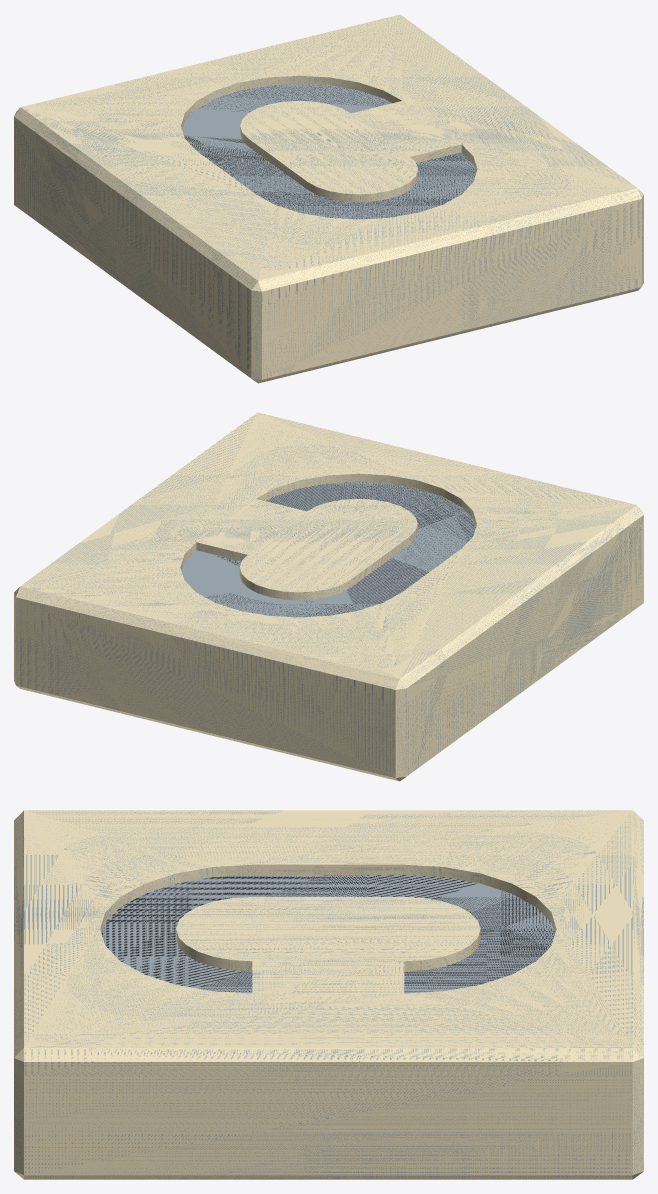
File: Boardgame_Anagram_Tile_C.fbx
3 renders of one model, top to bottom at view 1: azimuth 30°, elevation 25°; view 2: azimuth 150°, elevation 25°; view 3: azimuth 270°, elevation 25°, orthographic. The views are drawn at different scales.
Parts seen in each view (by area): view 1: Model; view 2: Model; view 3: Model.
Boxes of the visible parts, x1=… form: Model: x1=14, y1=14, x2=643, y2=383; Model: x1=14, y1=412, x2=643, y2=781; Model: x1=14, y1=810, x2=643, y2=1179.
Bounding box in the file's own units: 195 × 48.83 × 212.
